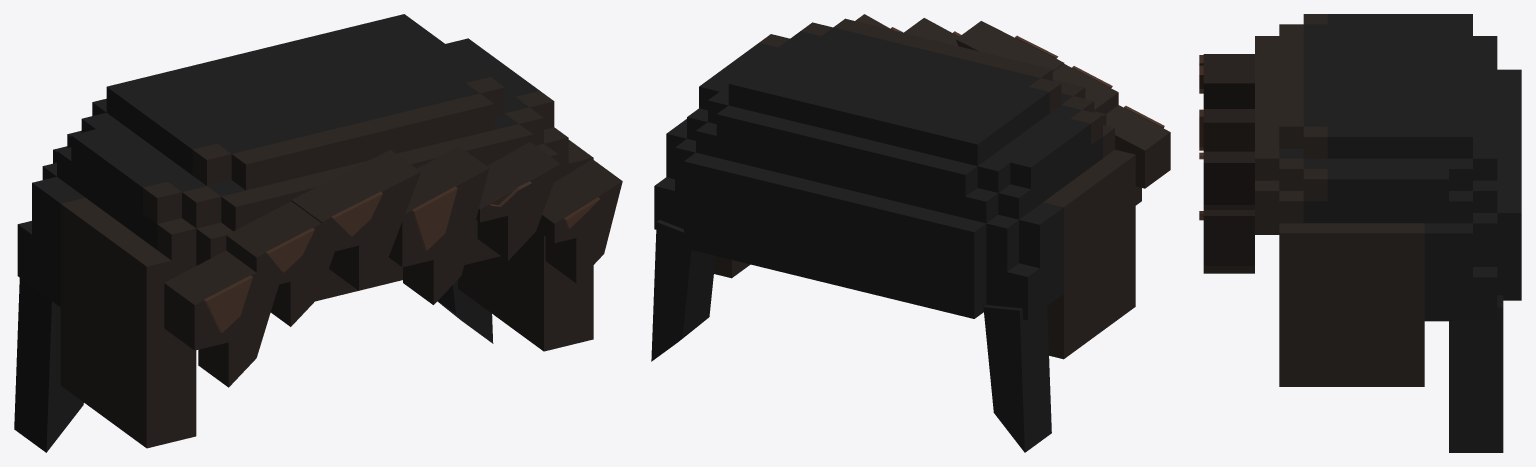
Rendered from suimilios_hair.glb.
3 renders of one model, left to right at view 1: azimuth 30°, elevation 25°; view 2: azimuth 150°, elevation 25°; view 3: azimuth 270°, elevation 25°, orthographic. The views are drawn at different scales.
Visible parts, largest first — view 1: suimilios_Hair.001; view 2: suimilios_Hair.001; view 3: suimilios_Hair.001.
Boxes of the visible parts, box(x1,y1,x2,y2) form: suimilios_Hair.001: box(14, 14, 622, 452); suimilios_Hair.001: box(651, 14, 1170, 452); suimilios_Hair.001: box(1199, 14, 1521, 452).
Bounding box in the file's own units: 0.9669 × 0.6983 × 0.7144.
Materials: 4 (4 with a texture image).
